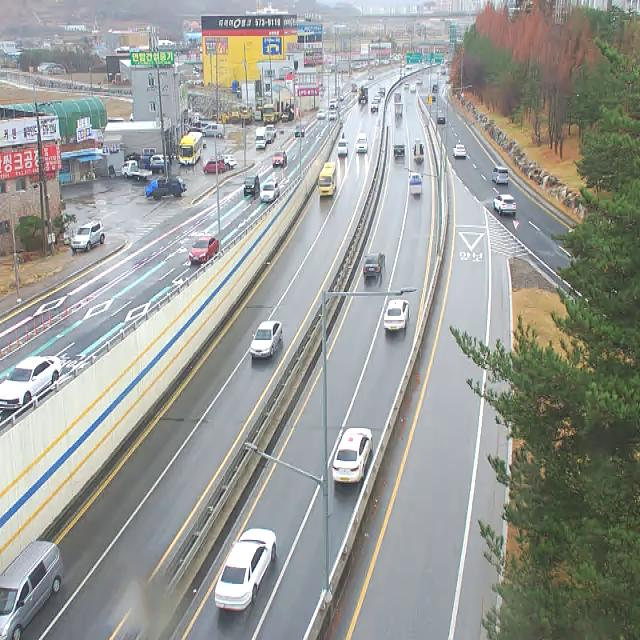Bus: (179, 130, 203, 166), (318, 163, 337, 197)
Car: (0, 541, 65, 639), (215, 530, 277, 612), (0, 356, 63, 410), (333, 428, 372, 484), (250, 321, 282, 359), (71, 220, 105, 254), (190, 236, 218, 264), (384, 299, 409, 330), (362, 252, 385, 279), (494, 195, 516, 215), (260, 181, 280, 203), (243, 176, 260, 197), (198, 124, 224, 137), (492, 167, 508, 185), (203, 161, 224, 174), (356, 133, 368, 153), (272, 151, 287, 167), (452, 144, 467, 159), (223, 155, 237, 170), (150, 155, 170, 165), (281, 109, 294, 122), (393, 144, 406, 157), (266, 125, 277, 138), (295, 124, 305, 138), (317, 108, 327, 120), (370, 100, 379, 112), (329, 98, 338, 108), (266, 133, 274, 144), (438, 115, 446, 125), (394, 91, 401, 102), (428, 94, 436, 103), (373, 94, 381, 102), (329, 111, 337, 119), (411, 84, 416, 92), (404, 83, 409, 90)
Truck: (151, 177, 187, 200), (122, 161, 152, 181), (138, 155, 164, 173), (412, 139, 424, 164), (409, 173, 423, 194), (262, 105, 278, 123), (256, 127, 266, 150), (337, 139, 348, 156)
